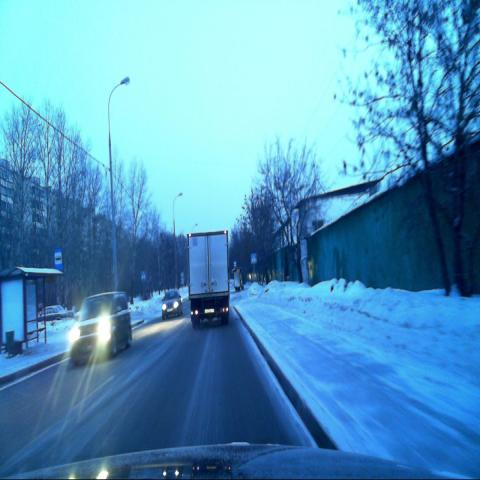5_16: (54, 248, 64, 271)
5_19_1: (140, 270, 147, 281), (250, 253, 257, 263)
